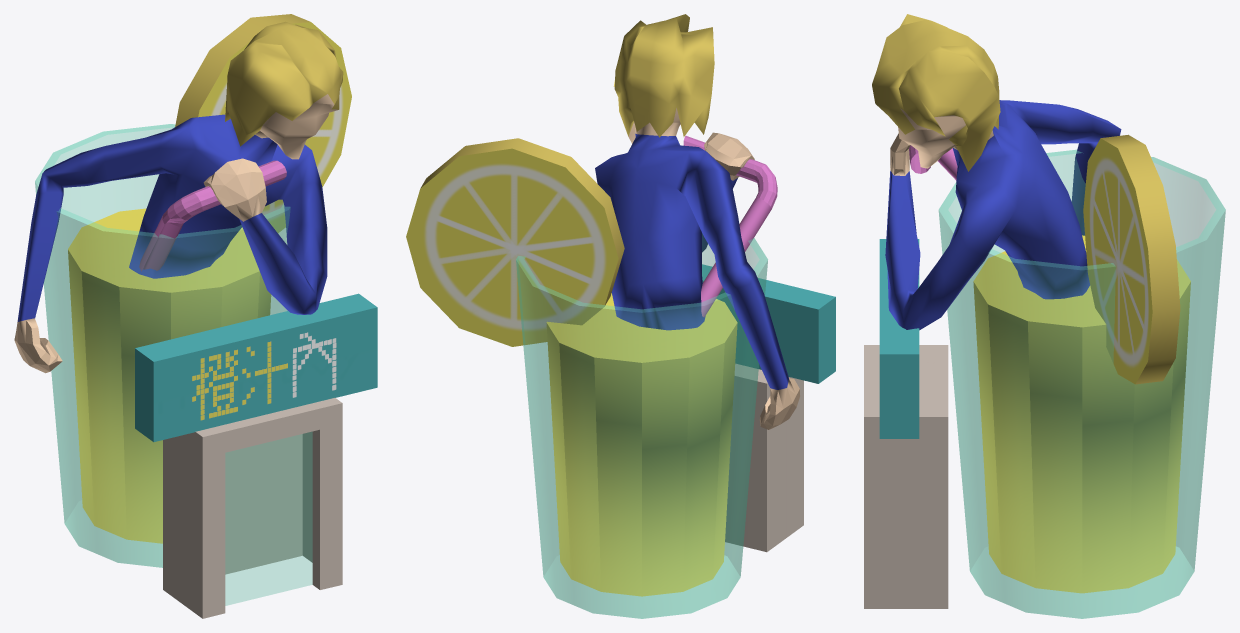
Rendered from ChenZiNai.fbx.
The picture shows the model from 3 angles, left to right: view 1: azimuth 30°, elevation 25°; view 2: azimuth 150°, elevation 25°; view 3: azimuth 270°, elevation 25°; orthographic projection. The views are drawn at different scales.
Visible parts, largest first — view 1: Cylinder004; view 2: Cylinder004; view 3: Cylinder004.
Boxes of the visible parts, <box> form: Cylinder004: <box>14,14,377,618</box>; Cylinder004: <box>406,14,835,618</box>; Cylinder004: <box>864,14,1225,618</box>.
Size of the model in its own units: 37.74 by 52.54 by 30.07.
Materials: 2 (2 with a texture image).
